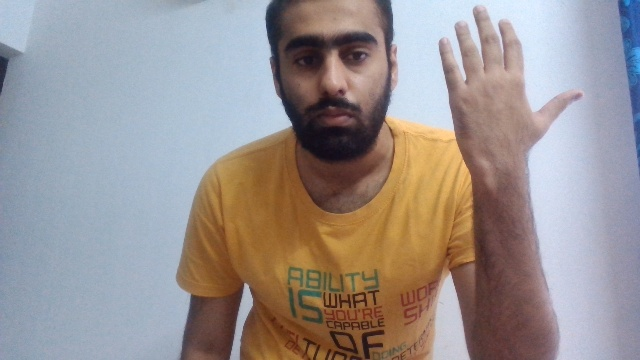paper: (437, 3, 585, 172)
